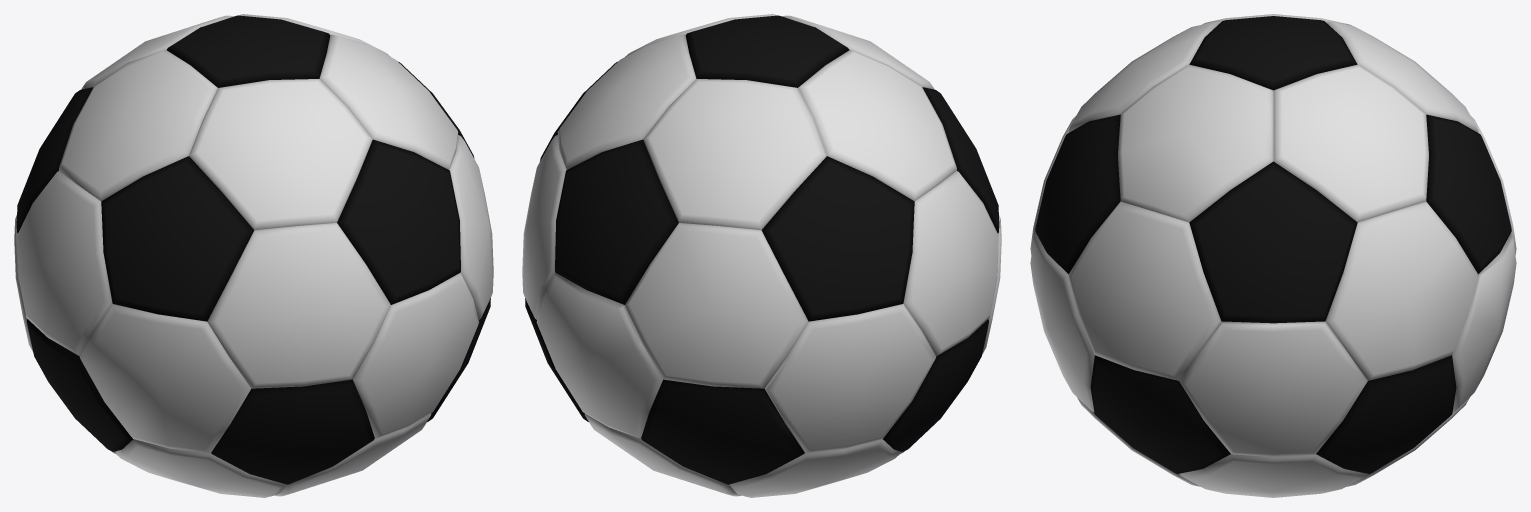
Rendered from Soccer_Ball.fbx.
3 renders of one model, left to right at view 1: azimuth 30°, elevation 25°; view 2: azimuth 150°, elevation 25°; view 3: azimuth 270°, elevation 25°, orthographic.
Visible parts, largest first — view 1: Soccer_Ball; view 2: Soccer_Ball; view 3: Soccer_Ball.
Part boxes in pixels (<box>): Soccer_Ball: <box>14,14,493,497</box>; Soccer_Ball: <box>522,14,1001,497</box>; Soccer_Ball: <box>1030,14,1516,497</box>.
Bounding box in the file's own units: 0.356 × 0.3572 × 0.3586.
